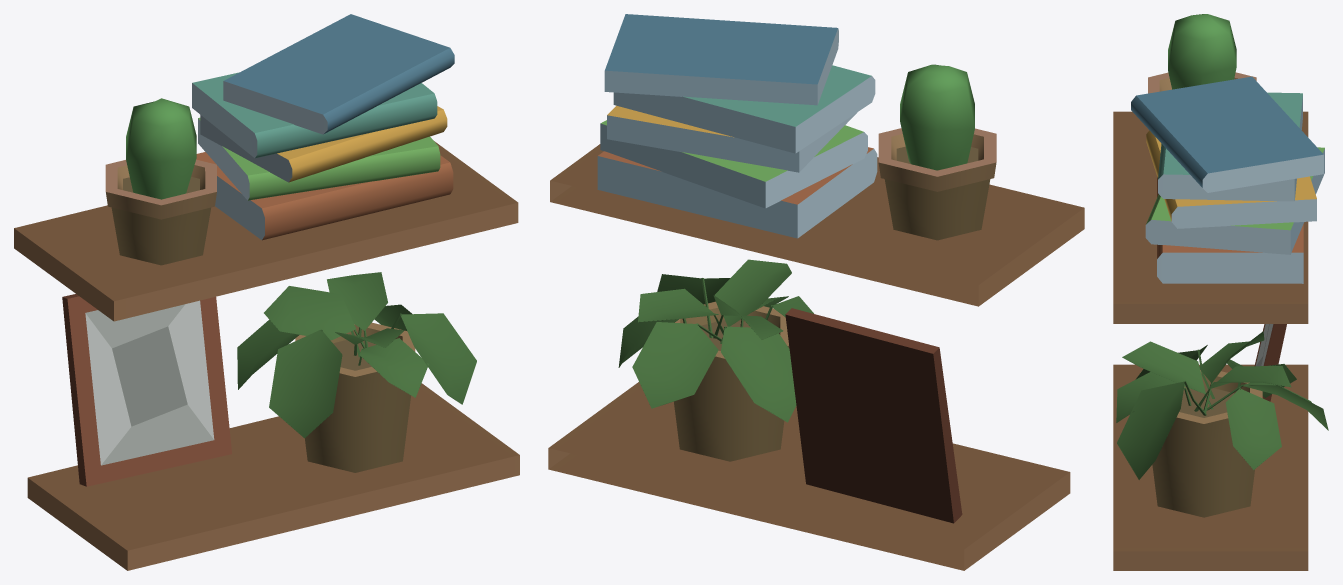
The model's file is SM_GameArea_Bookshelf_01.fbx.
The picture shows the model from 3 angles, left to right: view 1: azimuth 30°, elevation 25°; view 2: azimuth 150°, elevation 25°; view 3: azimuth 270°, elevation 25°; orthographic projection. The views are drawn at different scales.
Parts seen in each view (by area): view 1: SM_GameArea_Bookshelf_01; view 2: SM_GameArea_Bookshelf_01; view 3: SM_GameArea_Bookshelf_01.
Part boxes in pixels (x1,y1,x2,y2): SM_GameArea_Bookshelf_01: (14,14,519,570); SM_GameArea_Bookshelf_01: (548,14,1084,570); SM_GameArea_Bookshelf_01: (1113,14,1328,570).
Bounding box in the file's own units: 2.8 × 2.73 × 1.32.
1 material, 1 textured.
